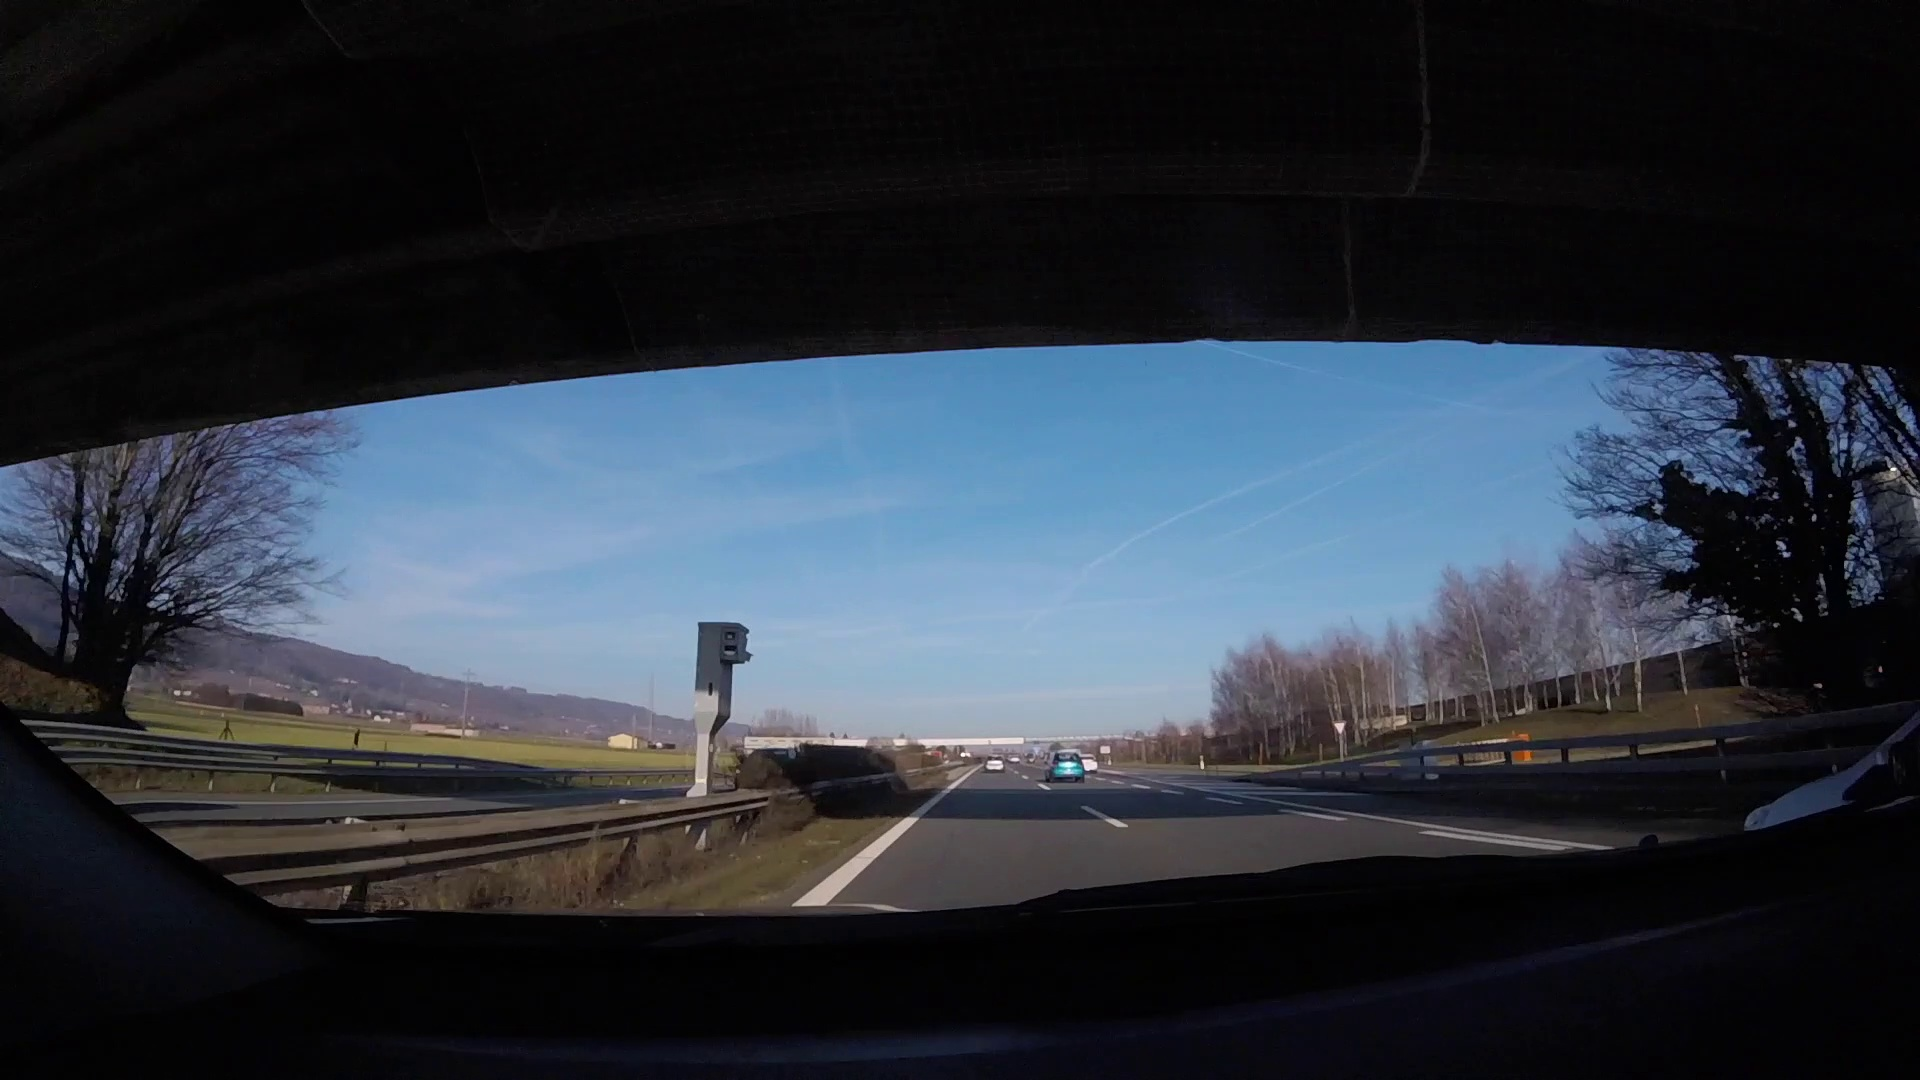radar: (694, 620, 756, 786)
